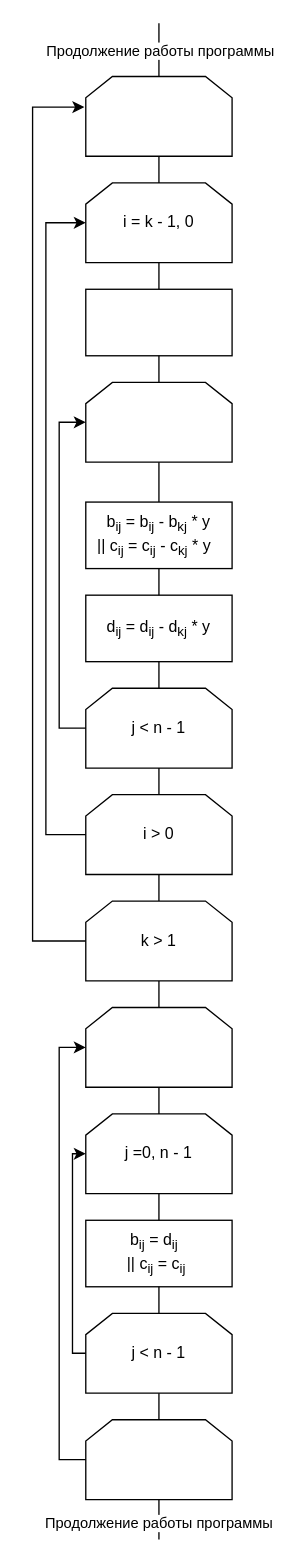
This 297x1564 diagram has some shape labels left out. The shapes that lost their labels are listed below. From the top down, each one's centre as x and y in pixels, then its label:
point (158, 115): k = n - 1, 1
point (158, 322): y = b ik || y = c ik
point (158, 421): j = 0, n - 1
point (158, 1046): i =0, n - 1
point (158, 1459): i < n - 1
